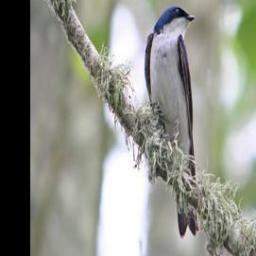Swallow: (144, 2, 202, 240)
